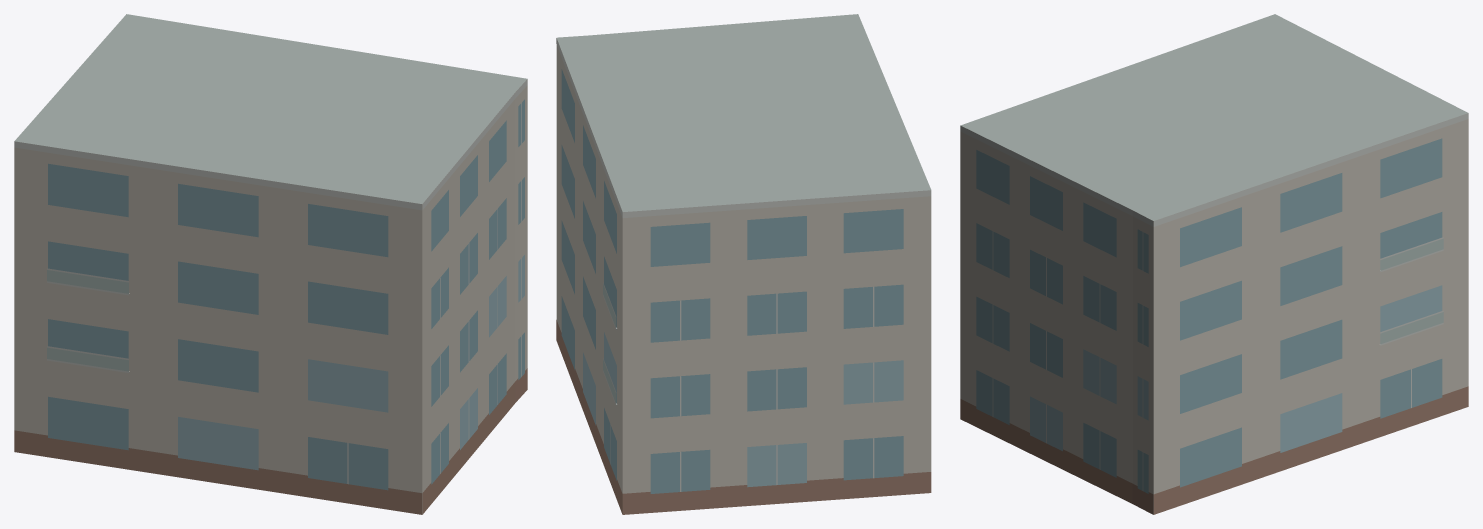
Rendered from survey-upis-32681682.glb.
The picture shows the model from 3 angles, left to right: view 1: azimuth 30°, elevation 25°; view 2: azimuth 150°, elevation 25°; view 3: azimuth 270°, elevation 25°; orthographic projection. The views are drawn at different scales.
Visible parts, largest first — view 1: survey-upis-32681682.tmp; view 2: survey-upis-32681682.tmp; view 3: survey-upis-32681682.tmp.
Part boxes in pixels (bbox=[...]): survey-upis-32681682.tmp: bbox=[14, 14, 527, 514]; survey-upis-32681682.tmp: bbox=[556, 14, 931, 514]; survey-upis-32681682.tmp: bbox=[960, 14, 1468, 514].
Size of the model in its own units: 18.46 by 12.2 by 19.14.
